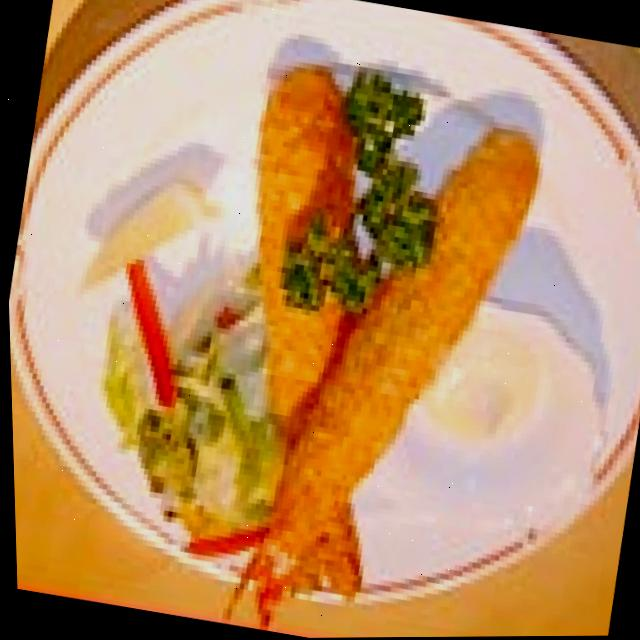炸货点心: (127, 25, 567, 639)
熟制海鲜: (127, 25, 567, 639)
